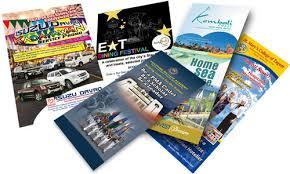Printing industry: (5, 7, 290, 174)
